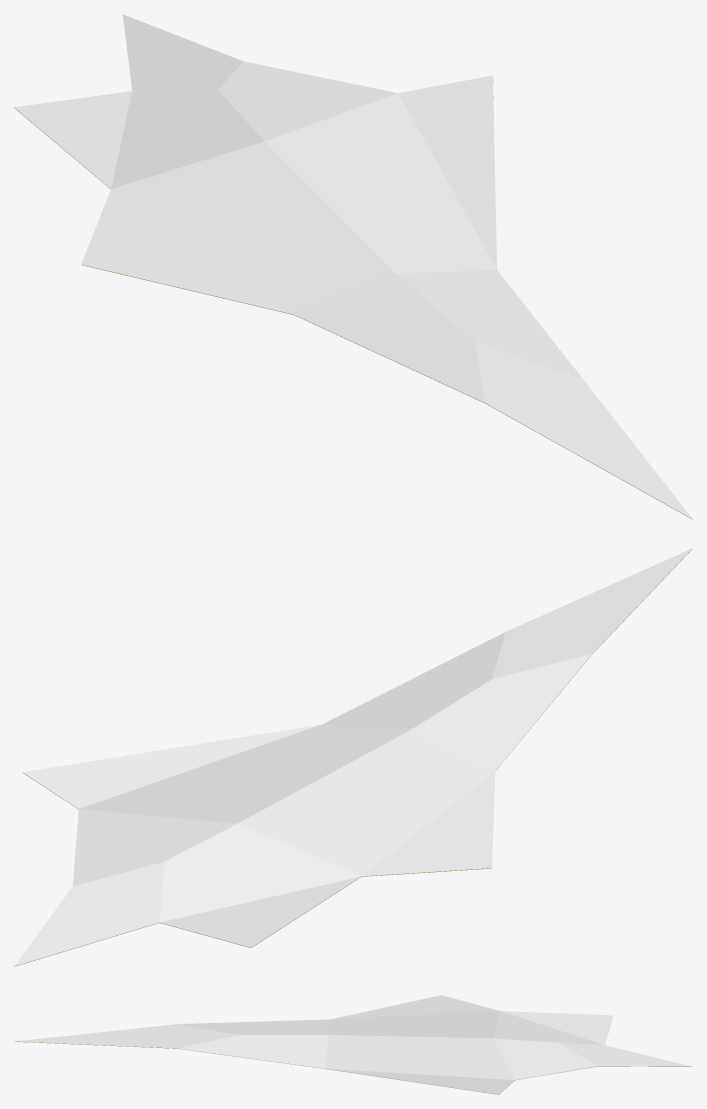
The model's file is Pine_Spikes_TwoSided_Snow_02.fbx.
3 views of the same model, one above another, from view 1: azimuth 30°, elevation 25°; view 2: azimuth 150°, elevation 25°; view 3: azimuth 270°, elevation 25° (orthographic). The views are drawn at different scales.
Visible parts, largest first — view 1: Pine_Spikes_TwoSided_Snow_02; view 2: Pine_Spikes_TwoSided_Snow_02; view 3: Pine_Spikes_TwoSided_Snow_02.
Boxes of the visible parts, <box> form: Pine_Spikes_TwoSided_Snow_02: <box>14,14,692,519</box>; Pine_Spikes_TwoSided_Snow_02: <box>14,548,692,966</box>; Pine_Spikes_TwoSided_Snow_02: <box>14,995,691,1094</box>.
Bounding box in the file's own units: 102 × 7.16 × 250.
